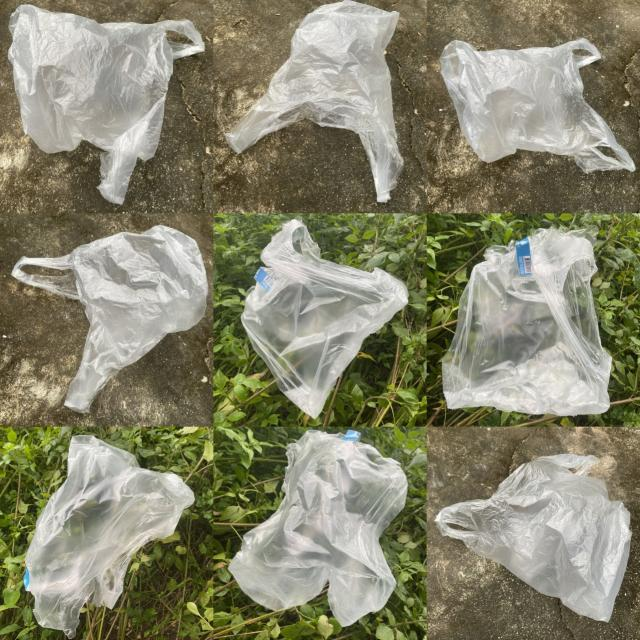Single-layer Plastic: (9, 5, 205, 204), (11, 225, 208, 412), (226, 0, 404, 202), (229, 430, 408, 626), (25, 435, 194, 638), (241, 219, 409, 418), (436, 454, 631, 621), (442, 228, 611, 416), (440, 39, 635, 172)
